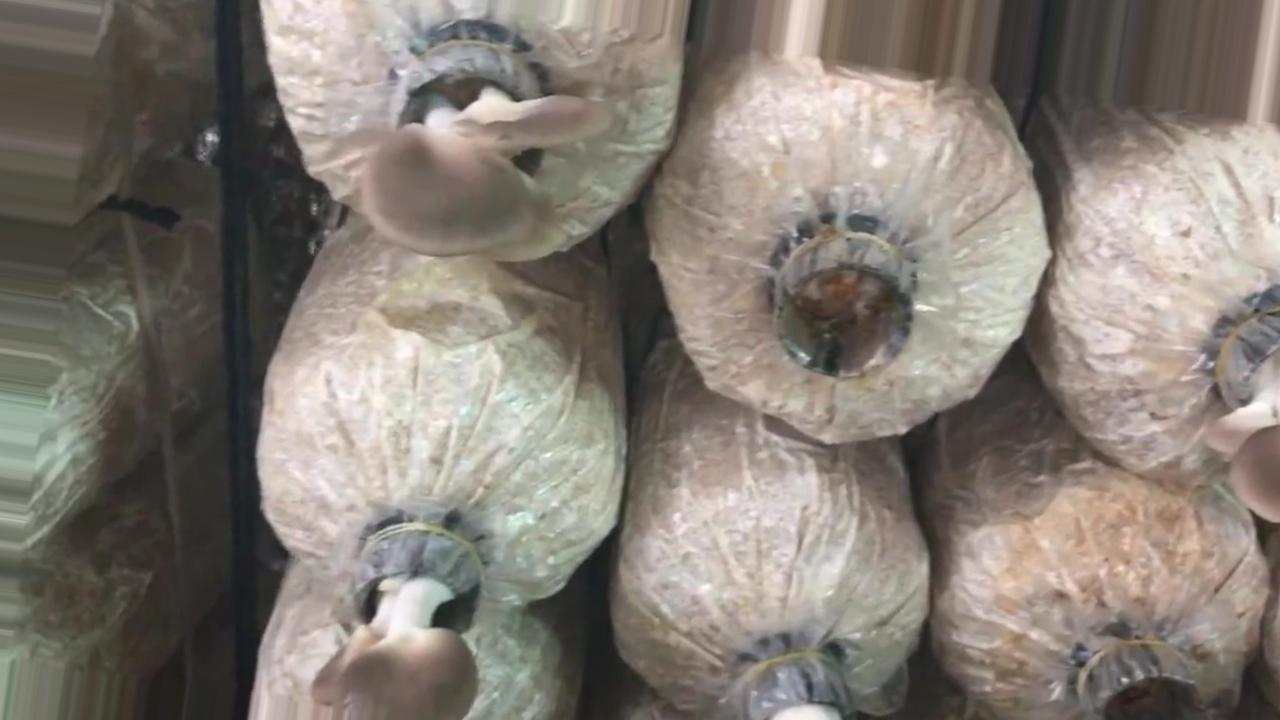nam: (360, 41, 611, 257), (310, 507, 482, 720)
